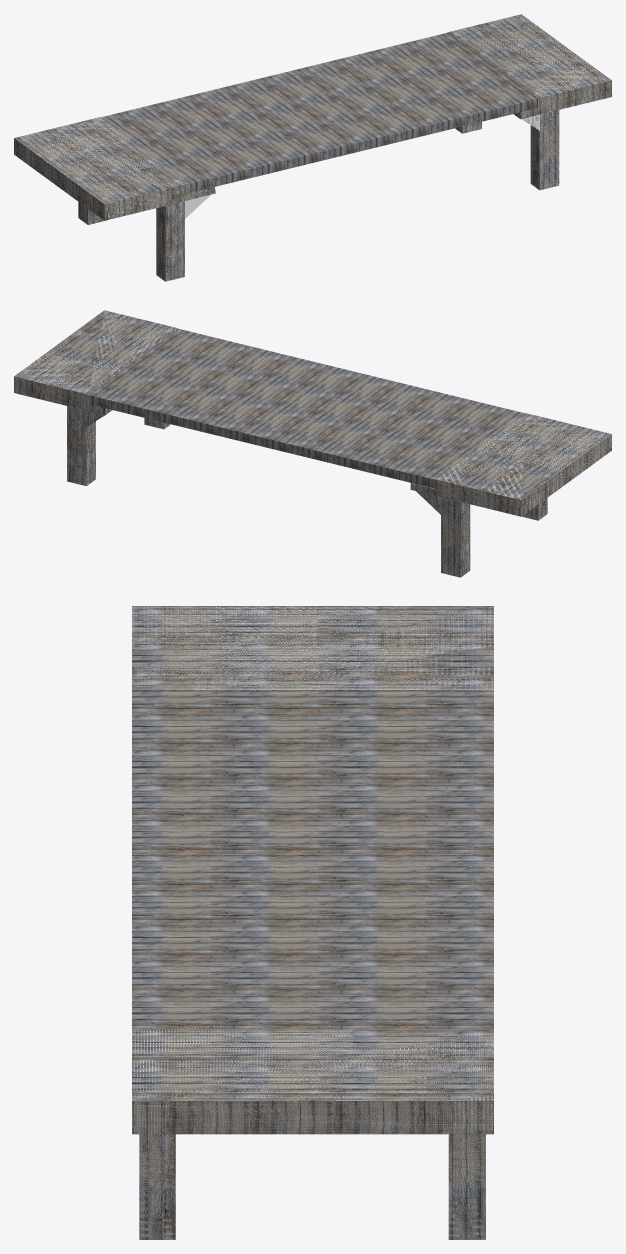
The model's file is pont2.dae.
The picture shows the model from 3 angles, top to bottom: view 1: azimuth 30°, elevation 25°; view 2: azimuth 150°, elevation 25°; view 3: azimuth 270°, elevation 25°; orthographic projection. The views are drawn at different scales.
Parts seen in each view (by area): view 1: Composant_1, SketchUp (×3); view 2: Composant_1, SketchUp (×3); view 3: Composant_1, SketchUp (×3).
Boxes of the visible parts, box(x1,y1,x2,y2) form: Composant_1: box(100, 33, 537, 192); SketchUp (×3): box(14, 14, 611, 281); Composant_1: box(88, 329, 525, 488); SketchUp (×3): box(14, 310, 611, 577); Composant_1: box(132, 690, 493, 1028); SketchUp (×3): box(132, 606, 493, 1239).
Size of the model in its own units: 507 by 157 by 89.76.
4 materials, 2 textured.
